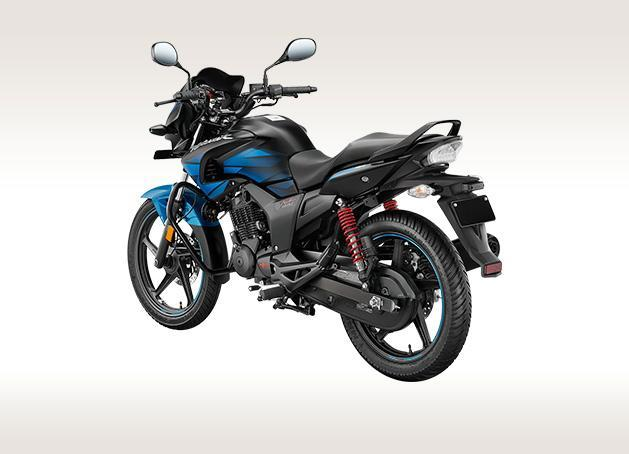motorbike: (127, 38, 501, 382)
